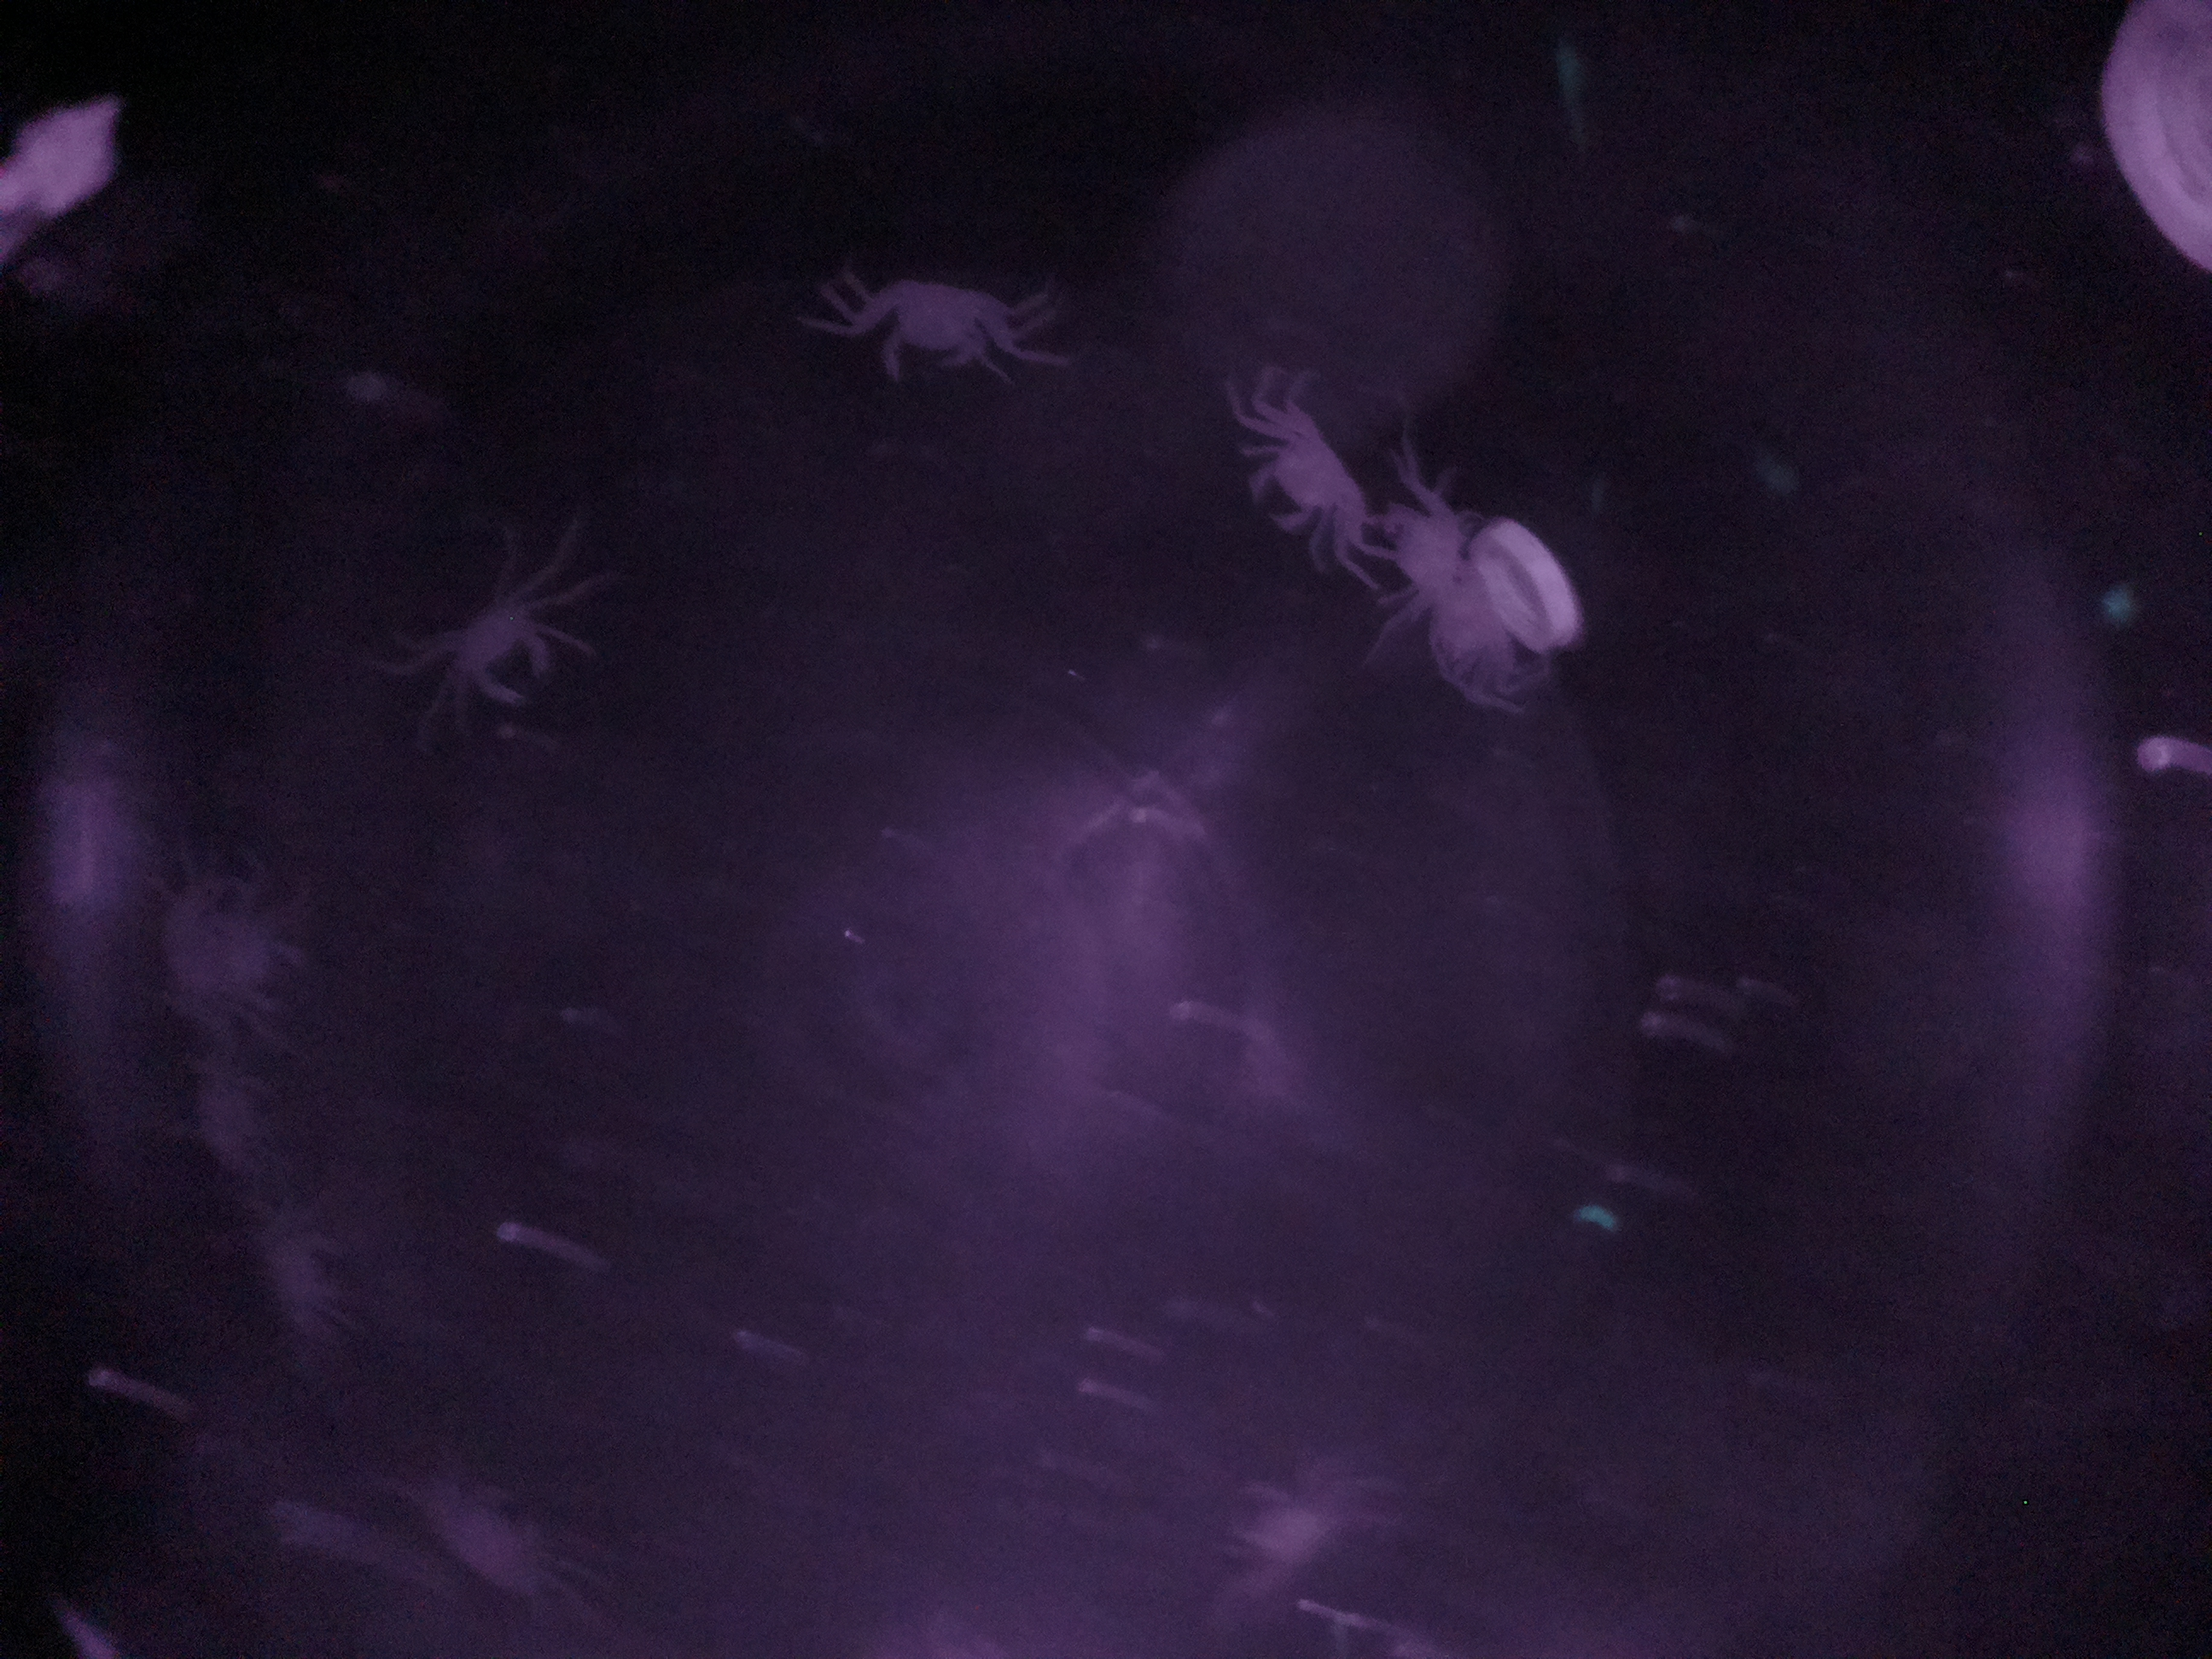Crab: (829, 235, 1033, 416), (1226, 373, 1397, 556), (425, 561, 577, 737)
